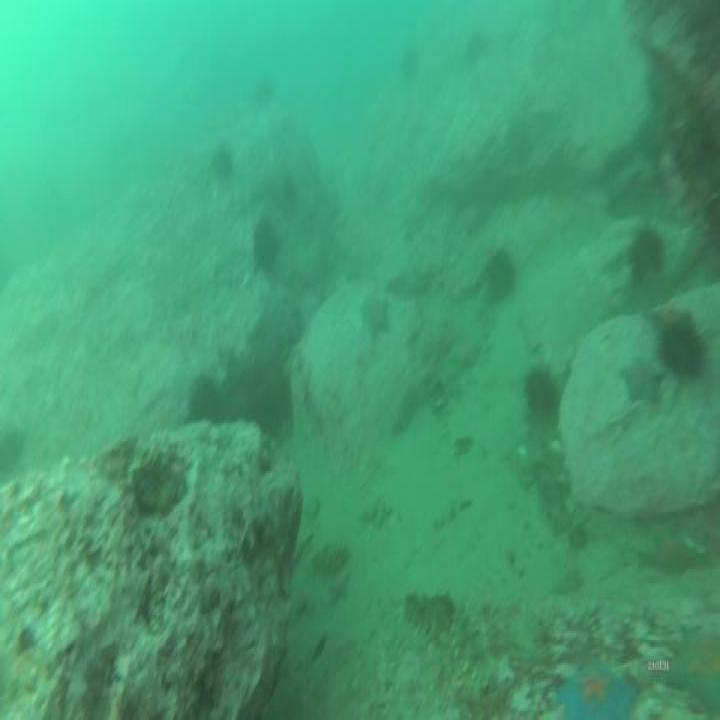echinus: (664, 332, 705, 377), (187, 377, 223, 423), (524, 366, 556, 407), (254, 222, 278, 267), (485, 256, 512, 295), (252, 78, 273, 107), (210, 148, 230, 178), (400, 48, 418, 78), (466, 36, 488, 58)
holothurian: (453, 612, 491, 688), (386, 608, 430, 656)
starfish: (668, 622, 720, 715), (562, 658, 632, 720), (650, 526, 698, 578), (627, 224, 663, 281), (622, 356, 661, 400), (365, 295, 391, 340), (649, 306, 692, 332), (327, 576, 348, 601)
